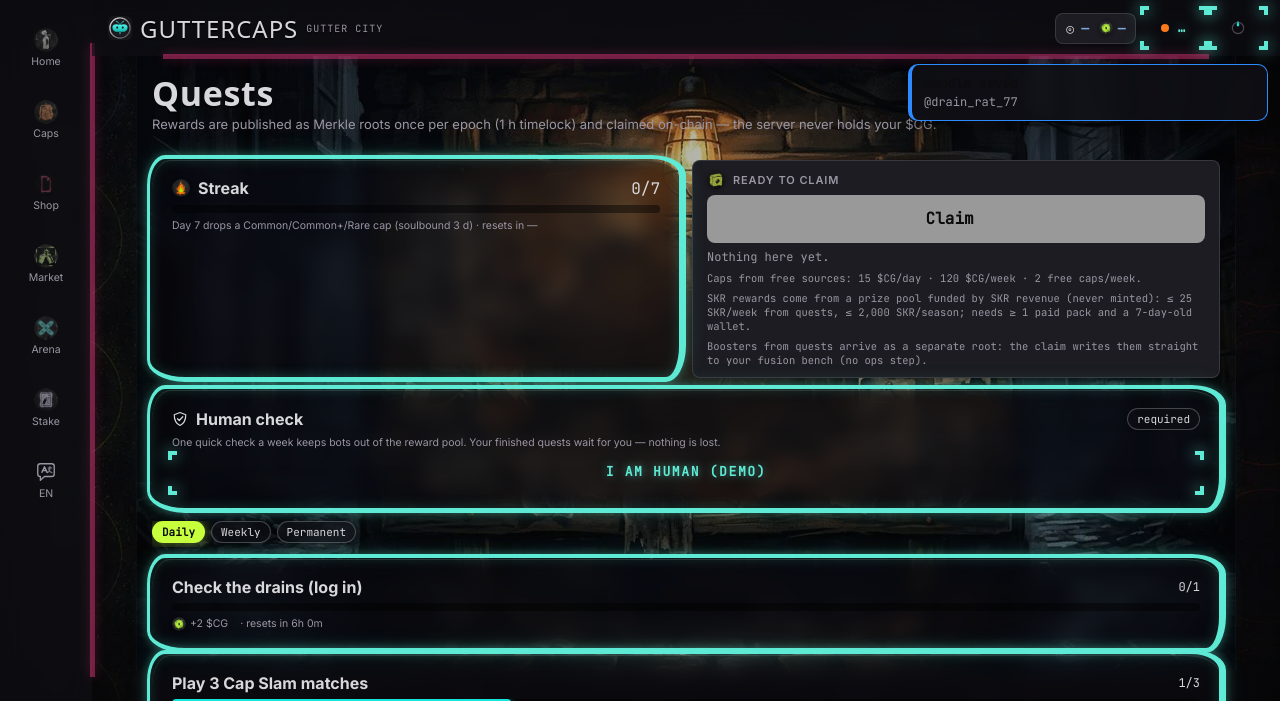
Test: authenticated routes (fake wallet + mock SIWS) › quests: the human-check card (T-B-49) shows while unverified, the ineligible reason is translated, and the mock pass hides it
Expected: the element with test id "human-check" is shown, [152, 390, 1220, 509]
Expected: the text "Human check" is shown, [172, 409, 303, 429]
Click the button "I am human (demo)" at x=686, y=473, box [172, 455, 1200, 491]
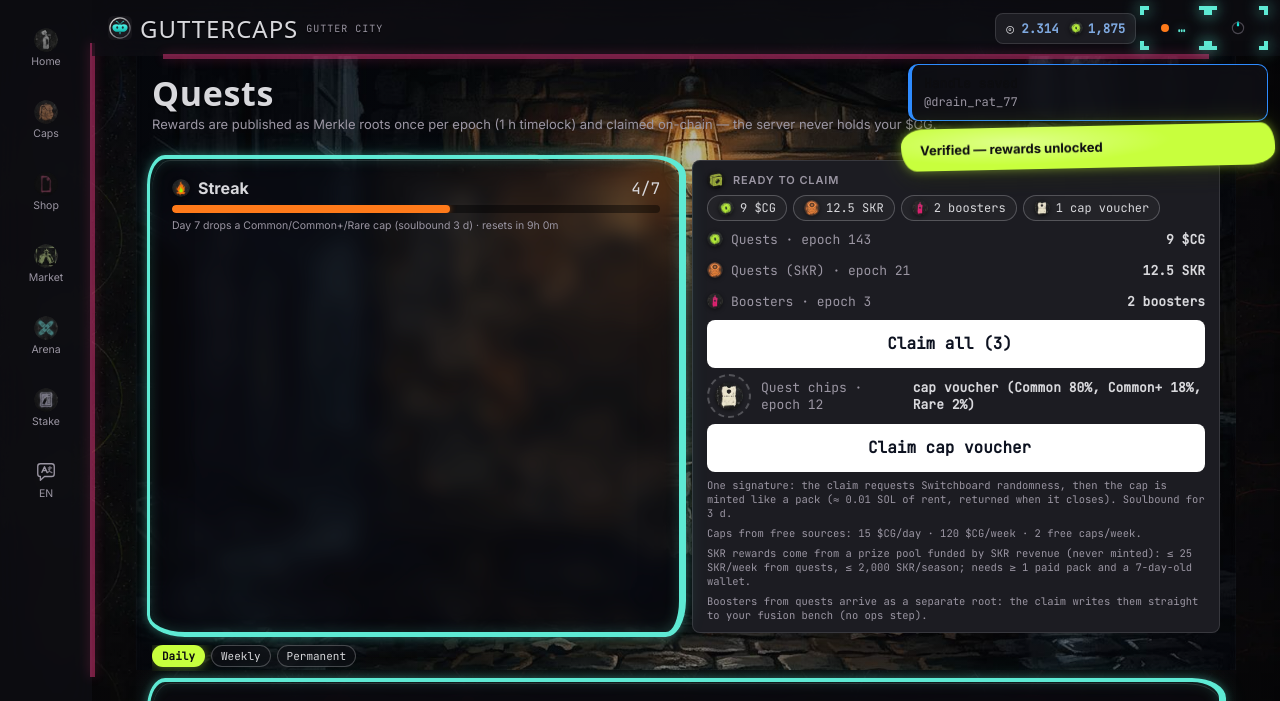
Result: the element with test id "human-check" is gone
Result: the text "Verified — rewards unlocked" is shown at [920, 139, 1103, 158]
